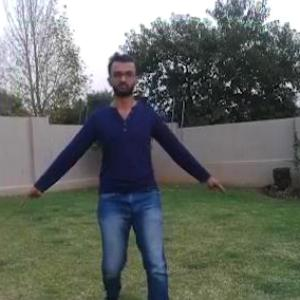land: (35, 54, 228, 287)
